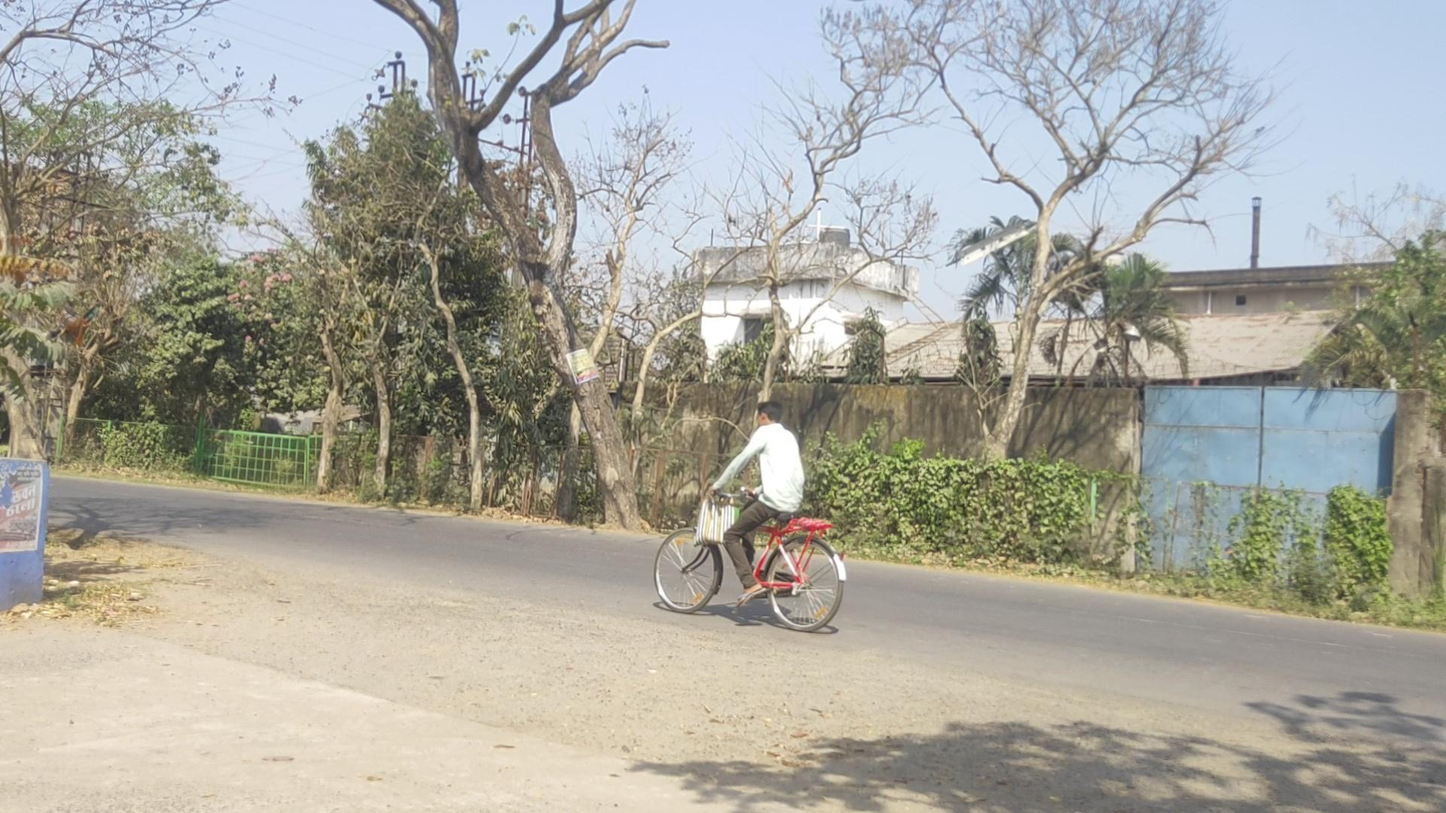bike: (653, 402, 847, 632)
